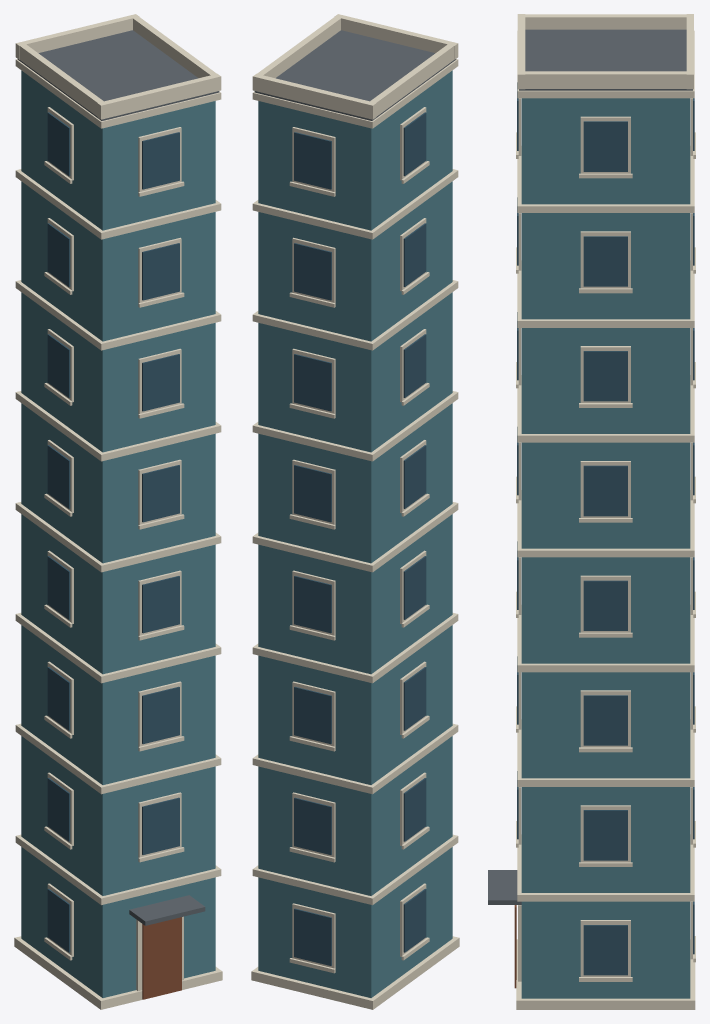
File: 02-narrow-tall.glb
The picture shows the model from 3 angles, left to right: view 1: azimuth 30°, elevation 25°; view 2: azimuth 150°, elevation 25°; view 3: azimuth 270°, elevation 25°; orthographic projection. The views are drawn at different scales.
Parts seen in each view (by area): view 1: 02-narrow-tall; view 2: 02-narrow-tall; view 3: 02-narrow-tall.
Boxes of the visible parts, x1=… form: 02-narrow-tall: x1=14, y1=14, x2=222, y2=1009; 02-narrow-tall: x1=251, y1=14, x2=459, y2=1009; 02-narrow-tall: x1=488, y1=14, x2=695, y2=1009.
Bounding box in the file's own units: 3.46 × 24.44 × 4.92.
